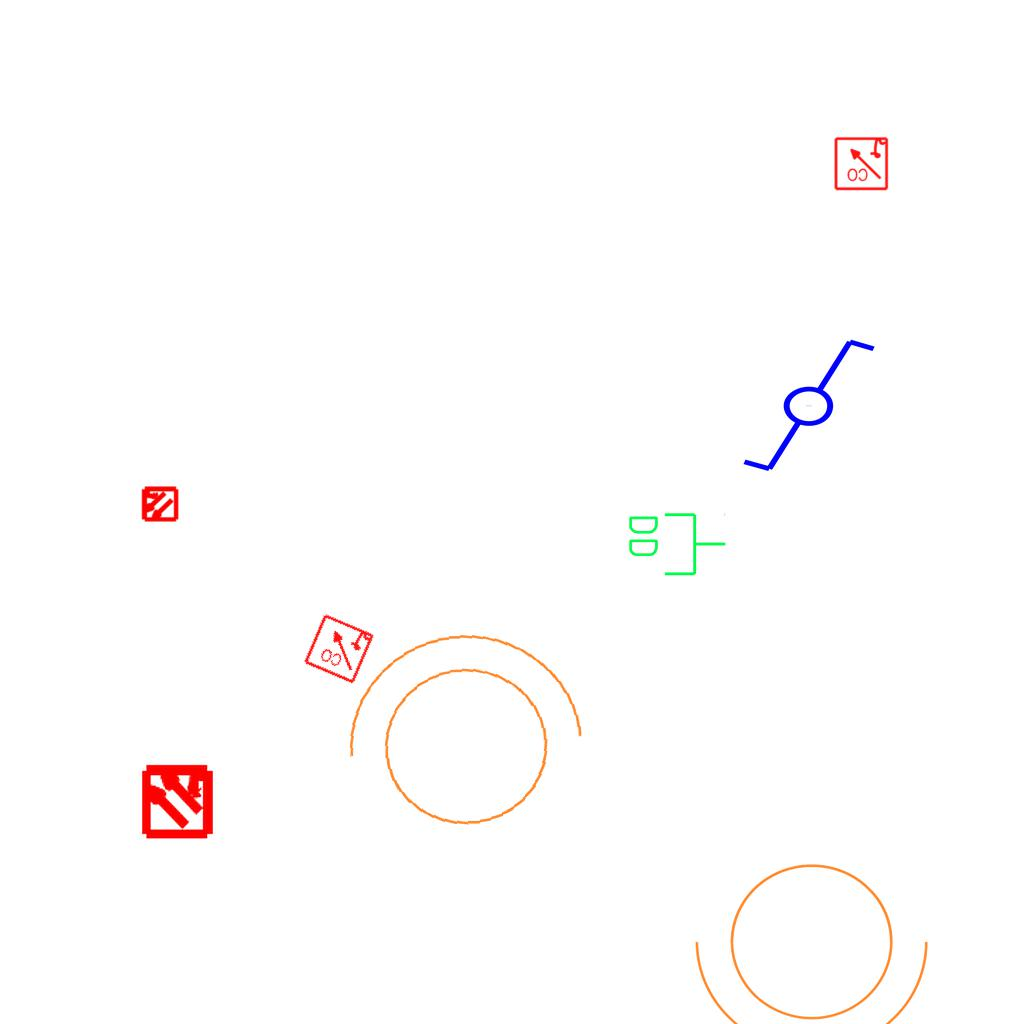Datenanschluss_zweifach: (625, 509, 728, 578)
OT_Multisensormelder_(Kombination_RMO_WMD): (121, 743, 234, 856), (131, 476, 187, 532)
ROA_Rauchmelder_optisch_mit_Signalgeber_(Sockelsirene): (302, 611, 376, 685), (833, 135, 889, 191)
Scheinwerfer_fuer_Alarmbeleuchtung: (317, 613, 601, 862), (686, 839, 950, 1024)
Wechselschalter: (722, 332, 879, 476)
